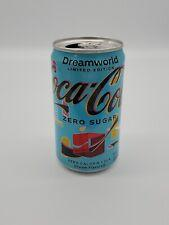metal: (52, 37, 125, 172)
